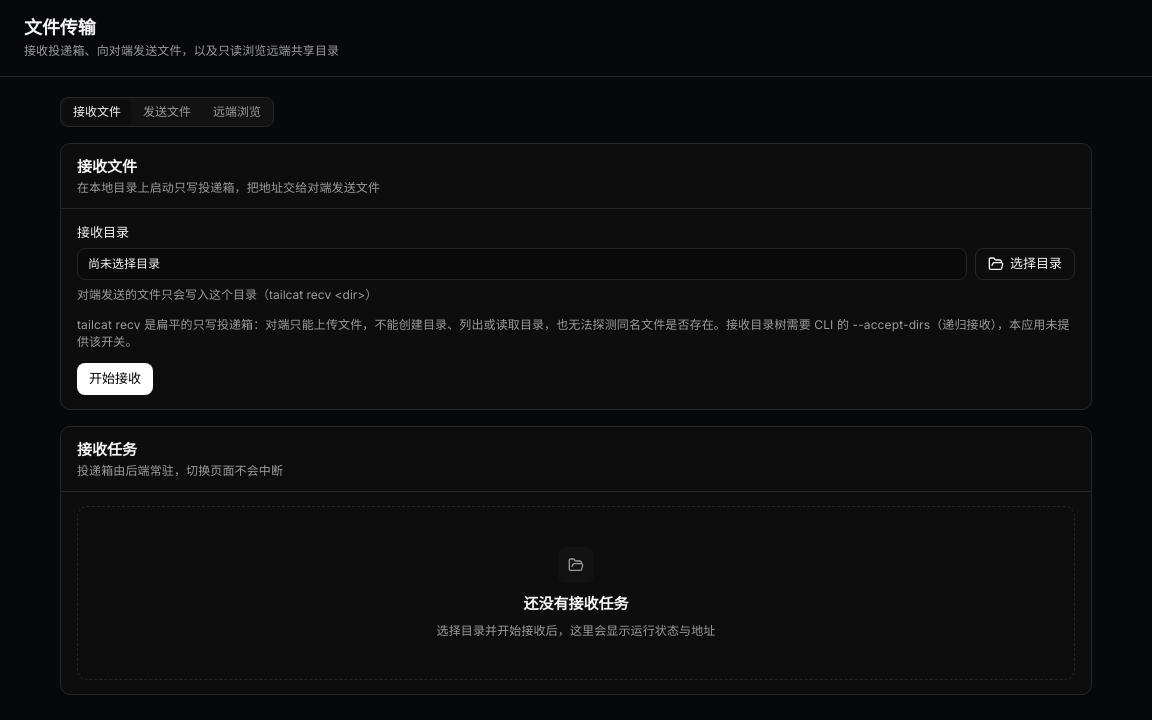
Test: TransferScreen / 接收文件 › 未选择目录时拒绝启动接收任务
This screenshot has width=1152, height=720.
Click the button "开始接收". click: (115, 379)
box: [77,363,153,395]
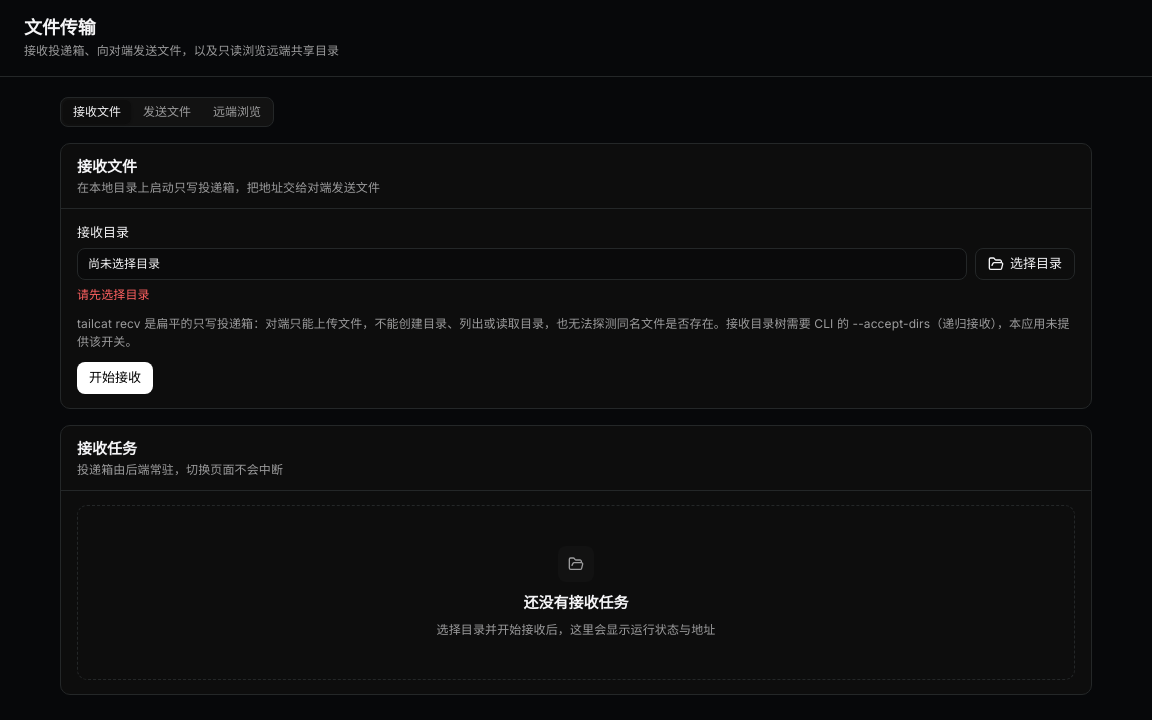
Result: the text "请先选择目录" is shown at [77,287,150,302]
